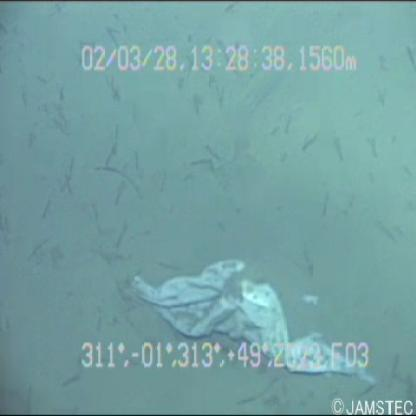Rác: (119, 228, 384, 395)
